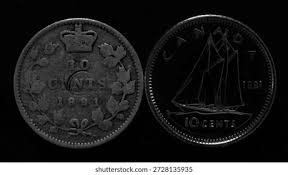coin: (145, 15, 275, 144), (14, 18, 142, 147)
